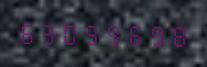eight: (164, 21, 184, 48)
nine: (101, 19, 121, 47), (143, 20, 163, 48), (80, 19, 100, 46)
six: (17, 18, 37, 45), (122, 20, 142, 47)
three: (38, 18, 58, 46)
zero: (59, 19, 79, 46)
